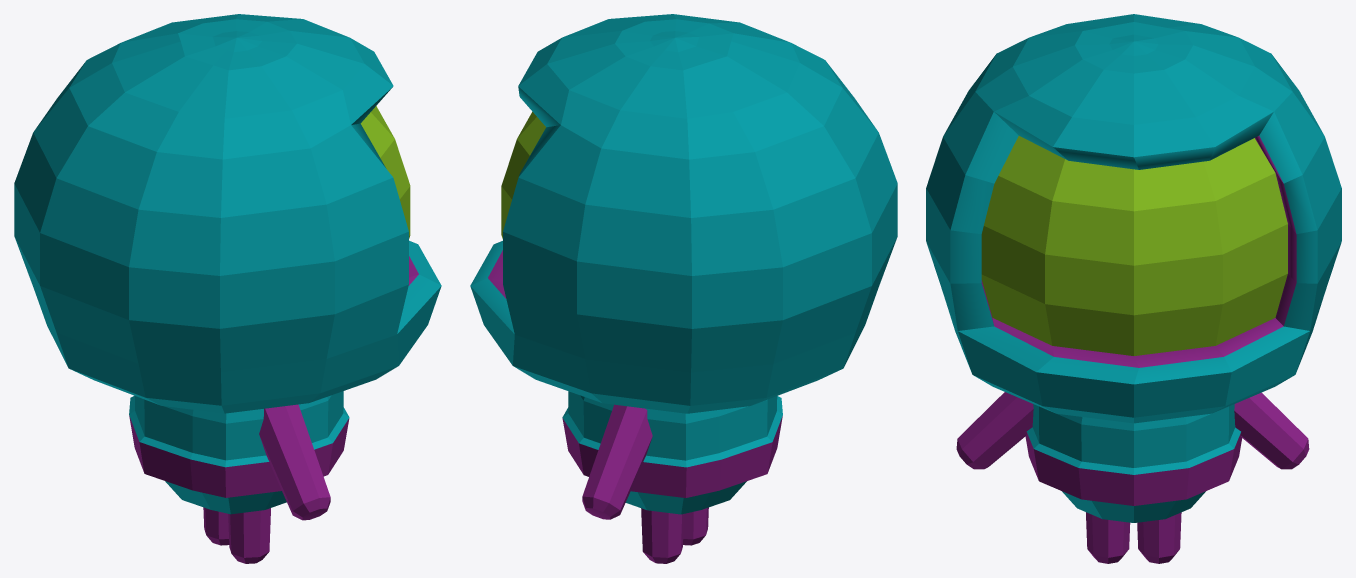
File: spacefolk1_rough.obj
The picture shows the model from 3 angles, left to right: view 1: azimuth 30°, elevation 25°; view 2: azimuth 150°, elevation 25°; view 3: azimuth 270°, elevation 25°; orthographic projection.
Parts seen in each view (by area): view 1: pSphere2, group1 pCylinder18, group1 pCylinder16, group1 pCylinder17; view 2: pSphere2, pCylinder19 group1, group1 pCylinder17, group1 pCylinder16; view 3: pSphere2, group1 pCylinder18, pCylinder19 group1, group1 pCylinder17, group1 pCylinder16.
Boxes of the visible parts, <box> form: pSphere2: <box>14,14,441,514</box>; group1 pCylinder18: <box>259,404,330,520</box>; group1 pCylinder16: <box>228,508,270,563</box>; group1 pCylinder17: <box>203,507,229,545</box>; pSphere2: <box>470,14,897,514</box>; pCylinder19 group1: <box>582,404,652,519</box>; group1 pCylinder17: <box>641,508,683,563</box>; group1 pCylinder16: <box>683,507,708,545</box>; pSphere2: <box>926,14,1341,522</box>; group1 pCylinder18: <box>956,392,1033,469</box>; pCylinder19 group1: <box>1234,392,1309,469</box>; group1 pCylinder17: <box>1137,512,1181,563</box>; group1 pCylinder16: <box>1086,512,1130,563</box>.
Size of the model in its own units: 1.73 by 2.24 by 1.63.
